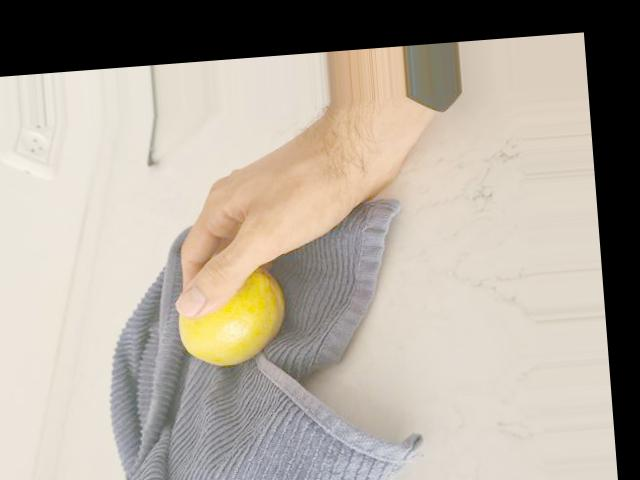lemon: (178, 265, 288, 366)
